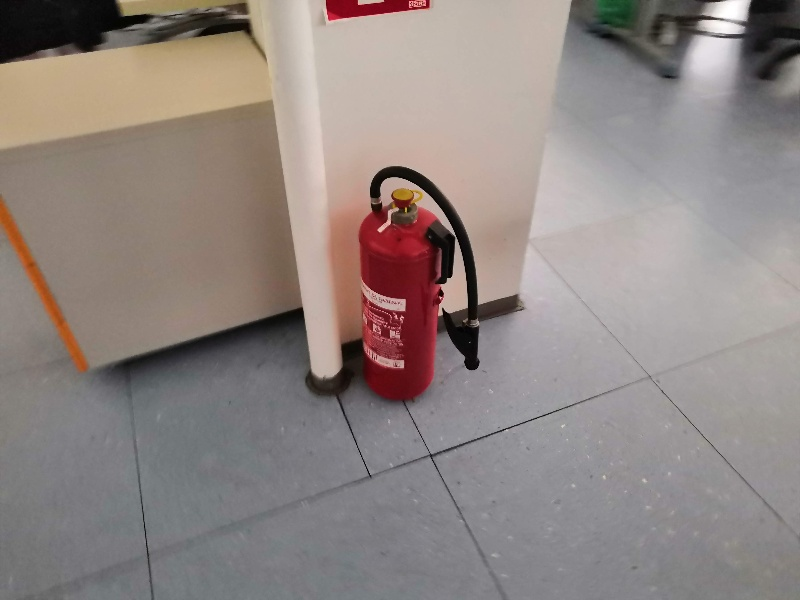vataparat: (357, 167, 479, 402)
